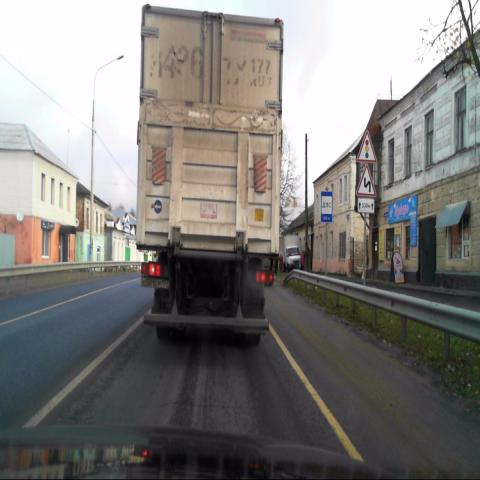1_12_2: (356, 164, 376, 197)
1_8: (357, 129, 377, 163)
7_12: (321, 191, 332, 222)
8_2_1: (358, 198, 374, 214)
